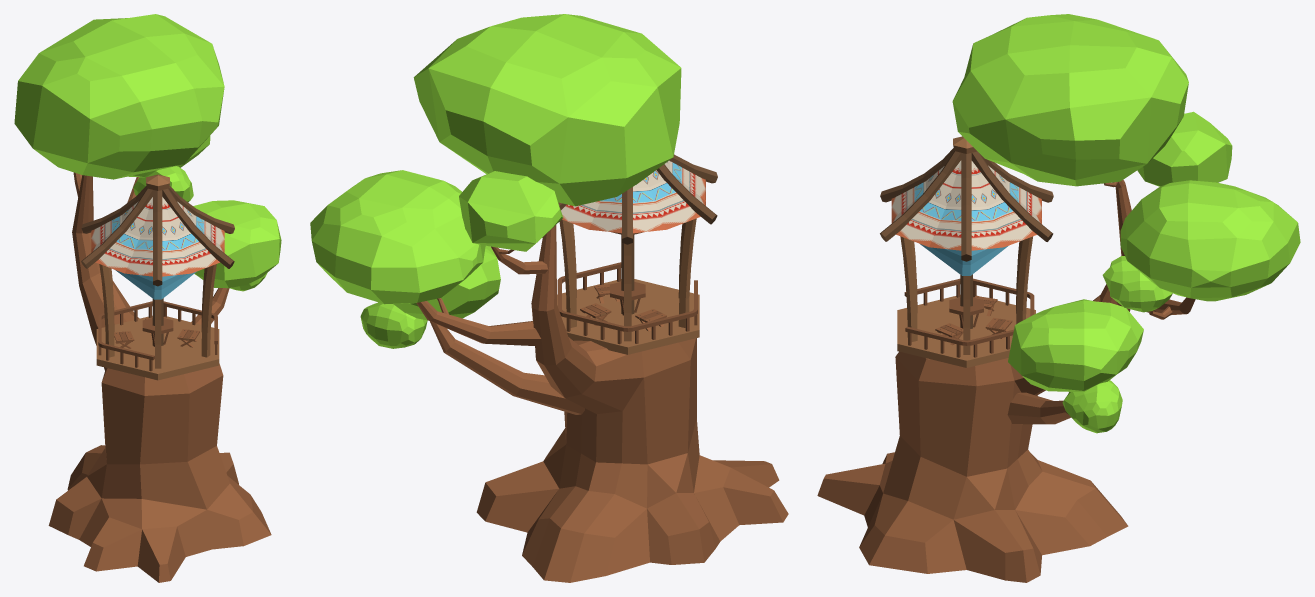
Rendered from O_Tree-House_1.fbx.
The picture shows the model from 3 angles, left to right: view 1: azimuth 30°, elevation 25°; view 2: azimuth 150°, elevation 25°; view 3: azimuth 270°, elevation 25°; orthographic projection. The views are drawn at different scales.
Parts seen in each view (by area): view 1: Object001; view 2: Object001; view 3: Object001.
Part boxes in pixels (box(x1,y1,x2,y2)): Object001: box(14, 14, 281, 582); Object001: box(310, 14, 788, 582); Object001: box(817, 14, 1300, 582).
Size of the model in its own units: 881 by 1377 by 1207.
